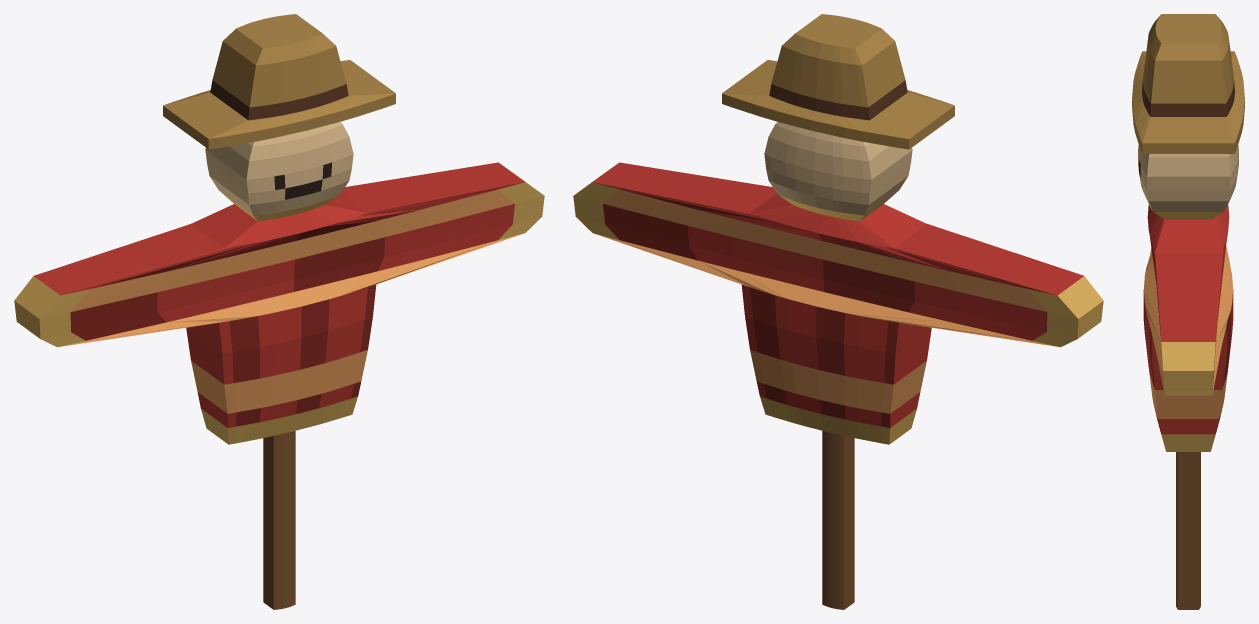
The model's file is NEW_RECOVERY_020_LOD1.fbx.
3 views of the same model, side by side, from view 1: azimuth 30°, elevation 25°; view 2: azimuth 150°, elevation 25°; view 3: azimuth 270°, elevation 25° (orthographic).
Visible parts, largest first — view 1: Scarecrow; view 2: Scarecrow; view 3: Scarecrow.
Part boxes in pixels (bbox=[...]): Scarecrow: bbox=[14, 14, 544, 609]; Scarecrow: bbox=[573, 14, 1103, 609]; Scarecrow: bbox=[1132, 14, 1244, 609].
Size of the model in its own units: 302 by 58.01 by 327.
